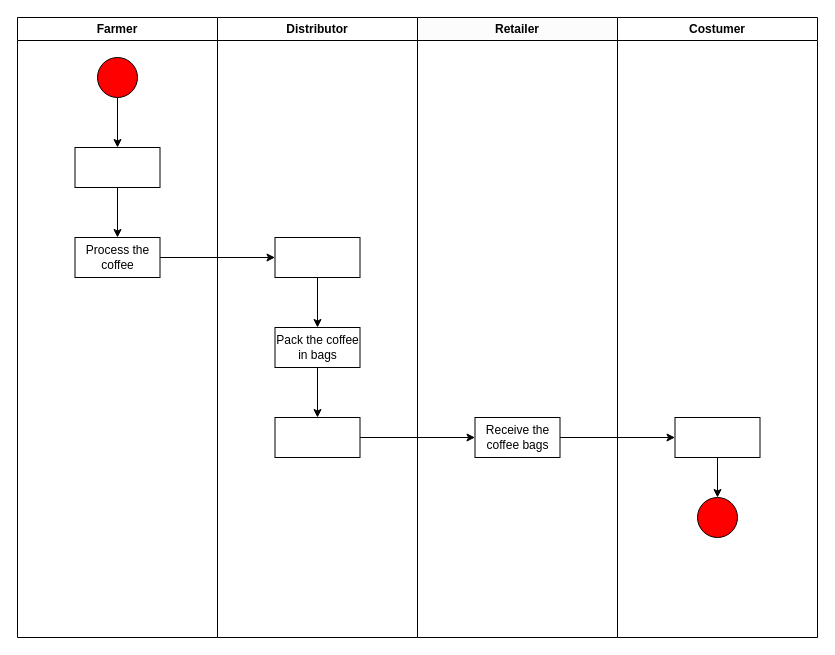
Some shapes in this 835 by 655 pixel diagram are drawn without their labels. Here are the shapes that lost their labels. From the top down, the centre of each, then its label:
At point (117, 167): "Harvest the coffee".
At point (317, 257): "Buy the coffee".
At point (317, 437): "Ship coffee bags".
At point (717, 437): "Purchase the coffee".
